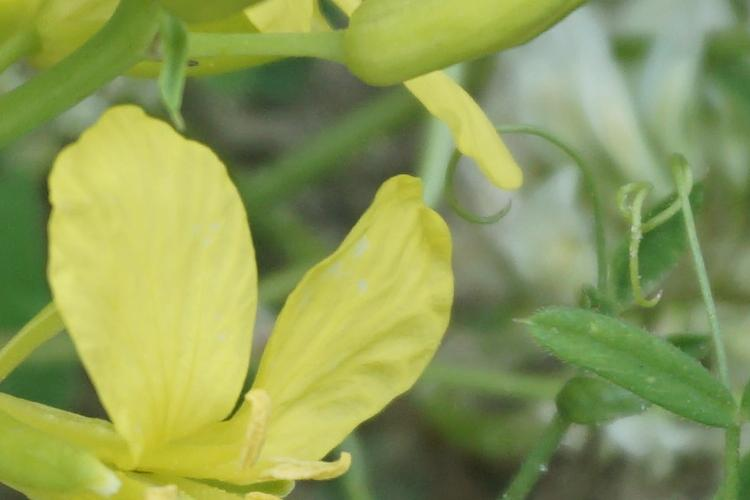bud: (346, 3, 584, 80)
yellow: (17, 119, 442, 500)
